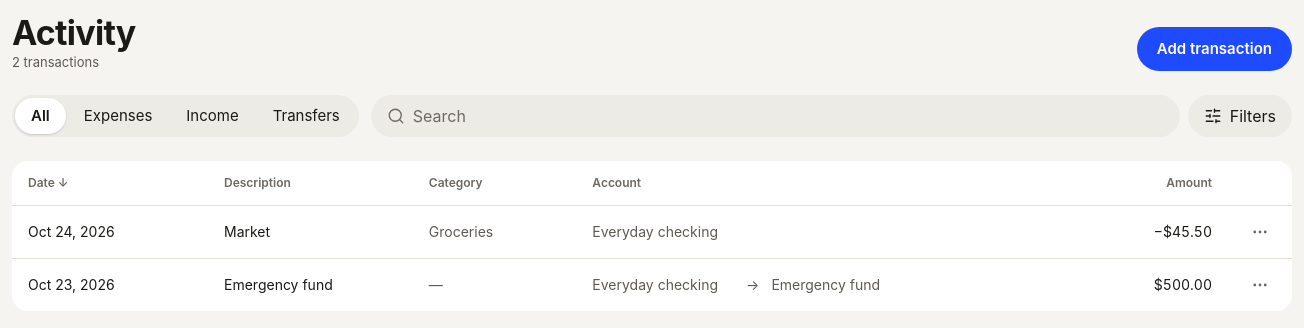
Scenario: editing Activity like a spreadsheet › saves a typed description on Enter and moves down to the next row
Click the button with aria-label "Description, Market. Edit": (310, 232) [216,216,405,246]
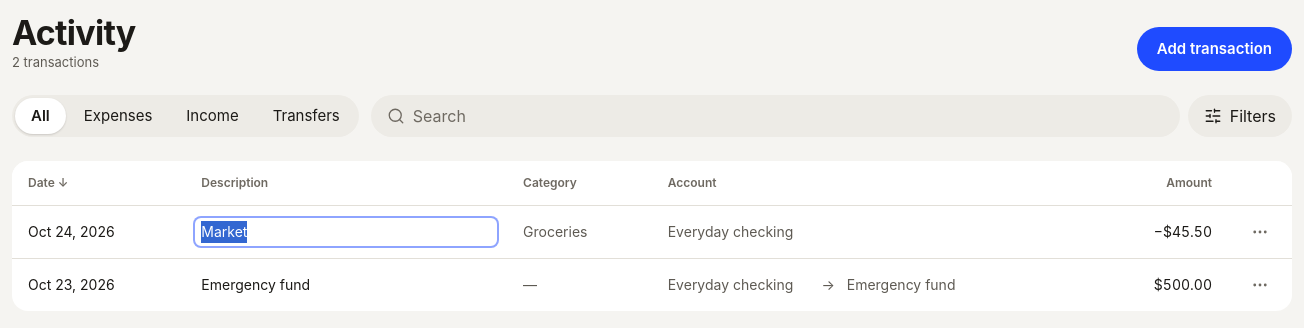
Replace the text in the field named "Description" with "Corner market": (346, 232) [193,216,499,248]
Then press Enter
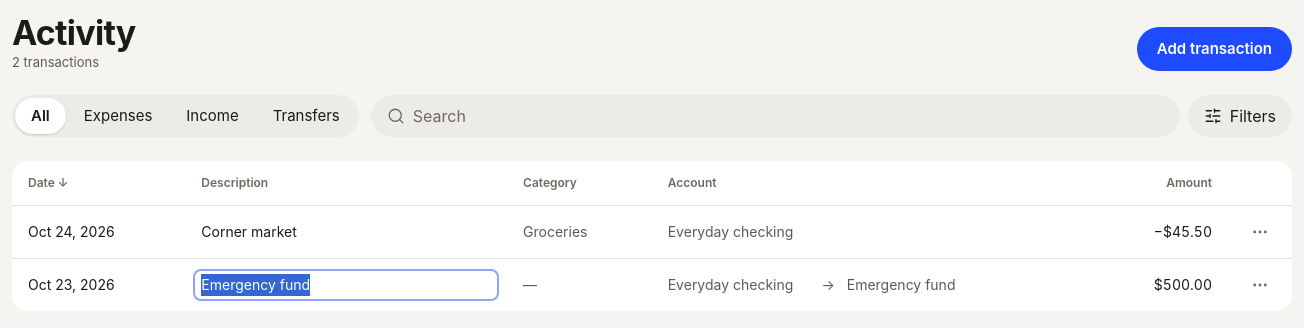
Expected: the field named "Description" holds "Emergency fund", [193,268,499,300]
